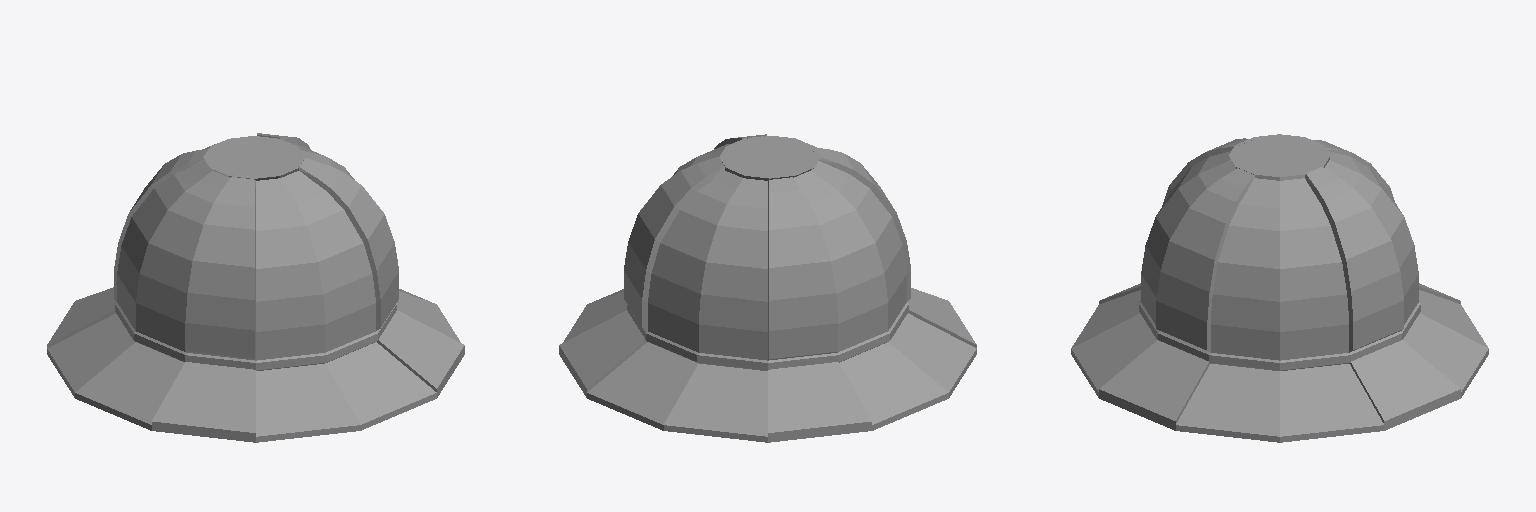
The model's file is Helmet__0.obj.
The picture shows the model from 3 angles: view 1: azimuth 30°, elevation 25°; view 2: azimuth 150°, elevation 25°; view 3: azimuth 270°, elevation 25°; orthographic projection.
Parts seen in each view (by area): view 1: Cube; view 2: Cube; view 3: Cube.
Part boxes in pixels (left/top/right/bottom): Cube: left=47, top=133, right=464, bottom=442; Cube: left=559, top=134, right=976, bottom=442; Cube: left=1071, top=134, right=1488, bottom=442.
Bounding box in the file's own units: 3.01 × 1.59 × 3.01.